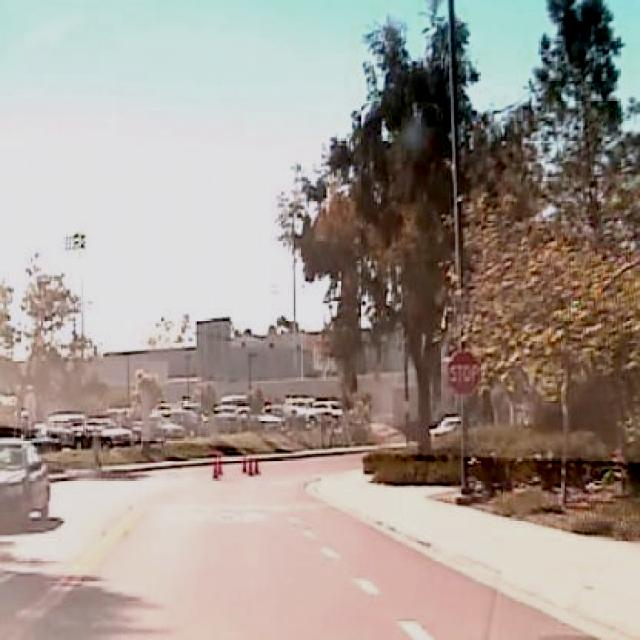Stop: (444, 352, 482, 399)
